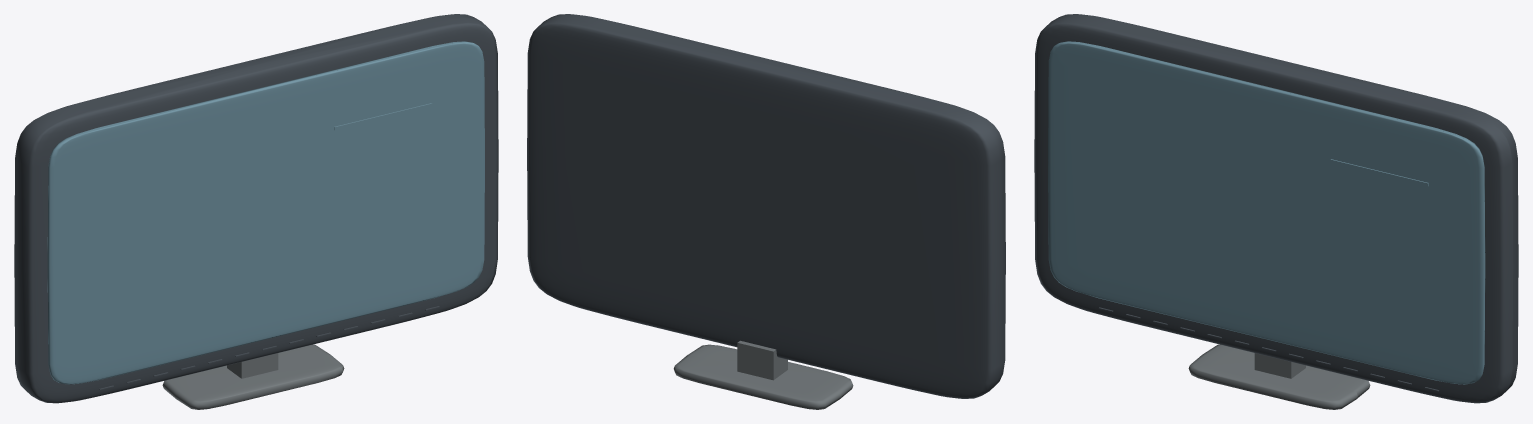
The model's file is prop_television_v01.glb.
The picture shows the model from 3 angles, left to right: view 1: azimuth 30°, elevation 25°; view 2: azimuth 150°, elevation 25°; view 3: azimuth 330°, elevation 25°; orthographic projection.
Parts seen in each view (by area): view 1: Art Television v01; view 2: Art Television v01; view 3: Art Television v01.
Part boxes in pixels (box(x1,y1,x2,y2)): Art Television v01: box(14, 14, 498, 409); Art Television v01: box(527, 14, 1005, 409); Art Television v01: box(1034, 14, 1518, 409).
Bounding box in the file's own units: 1.36 × 0.8765 × 0.1892.
